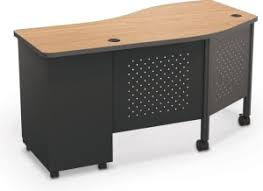desk_099.jpg: (8, 1, 262, 179)
